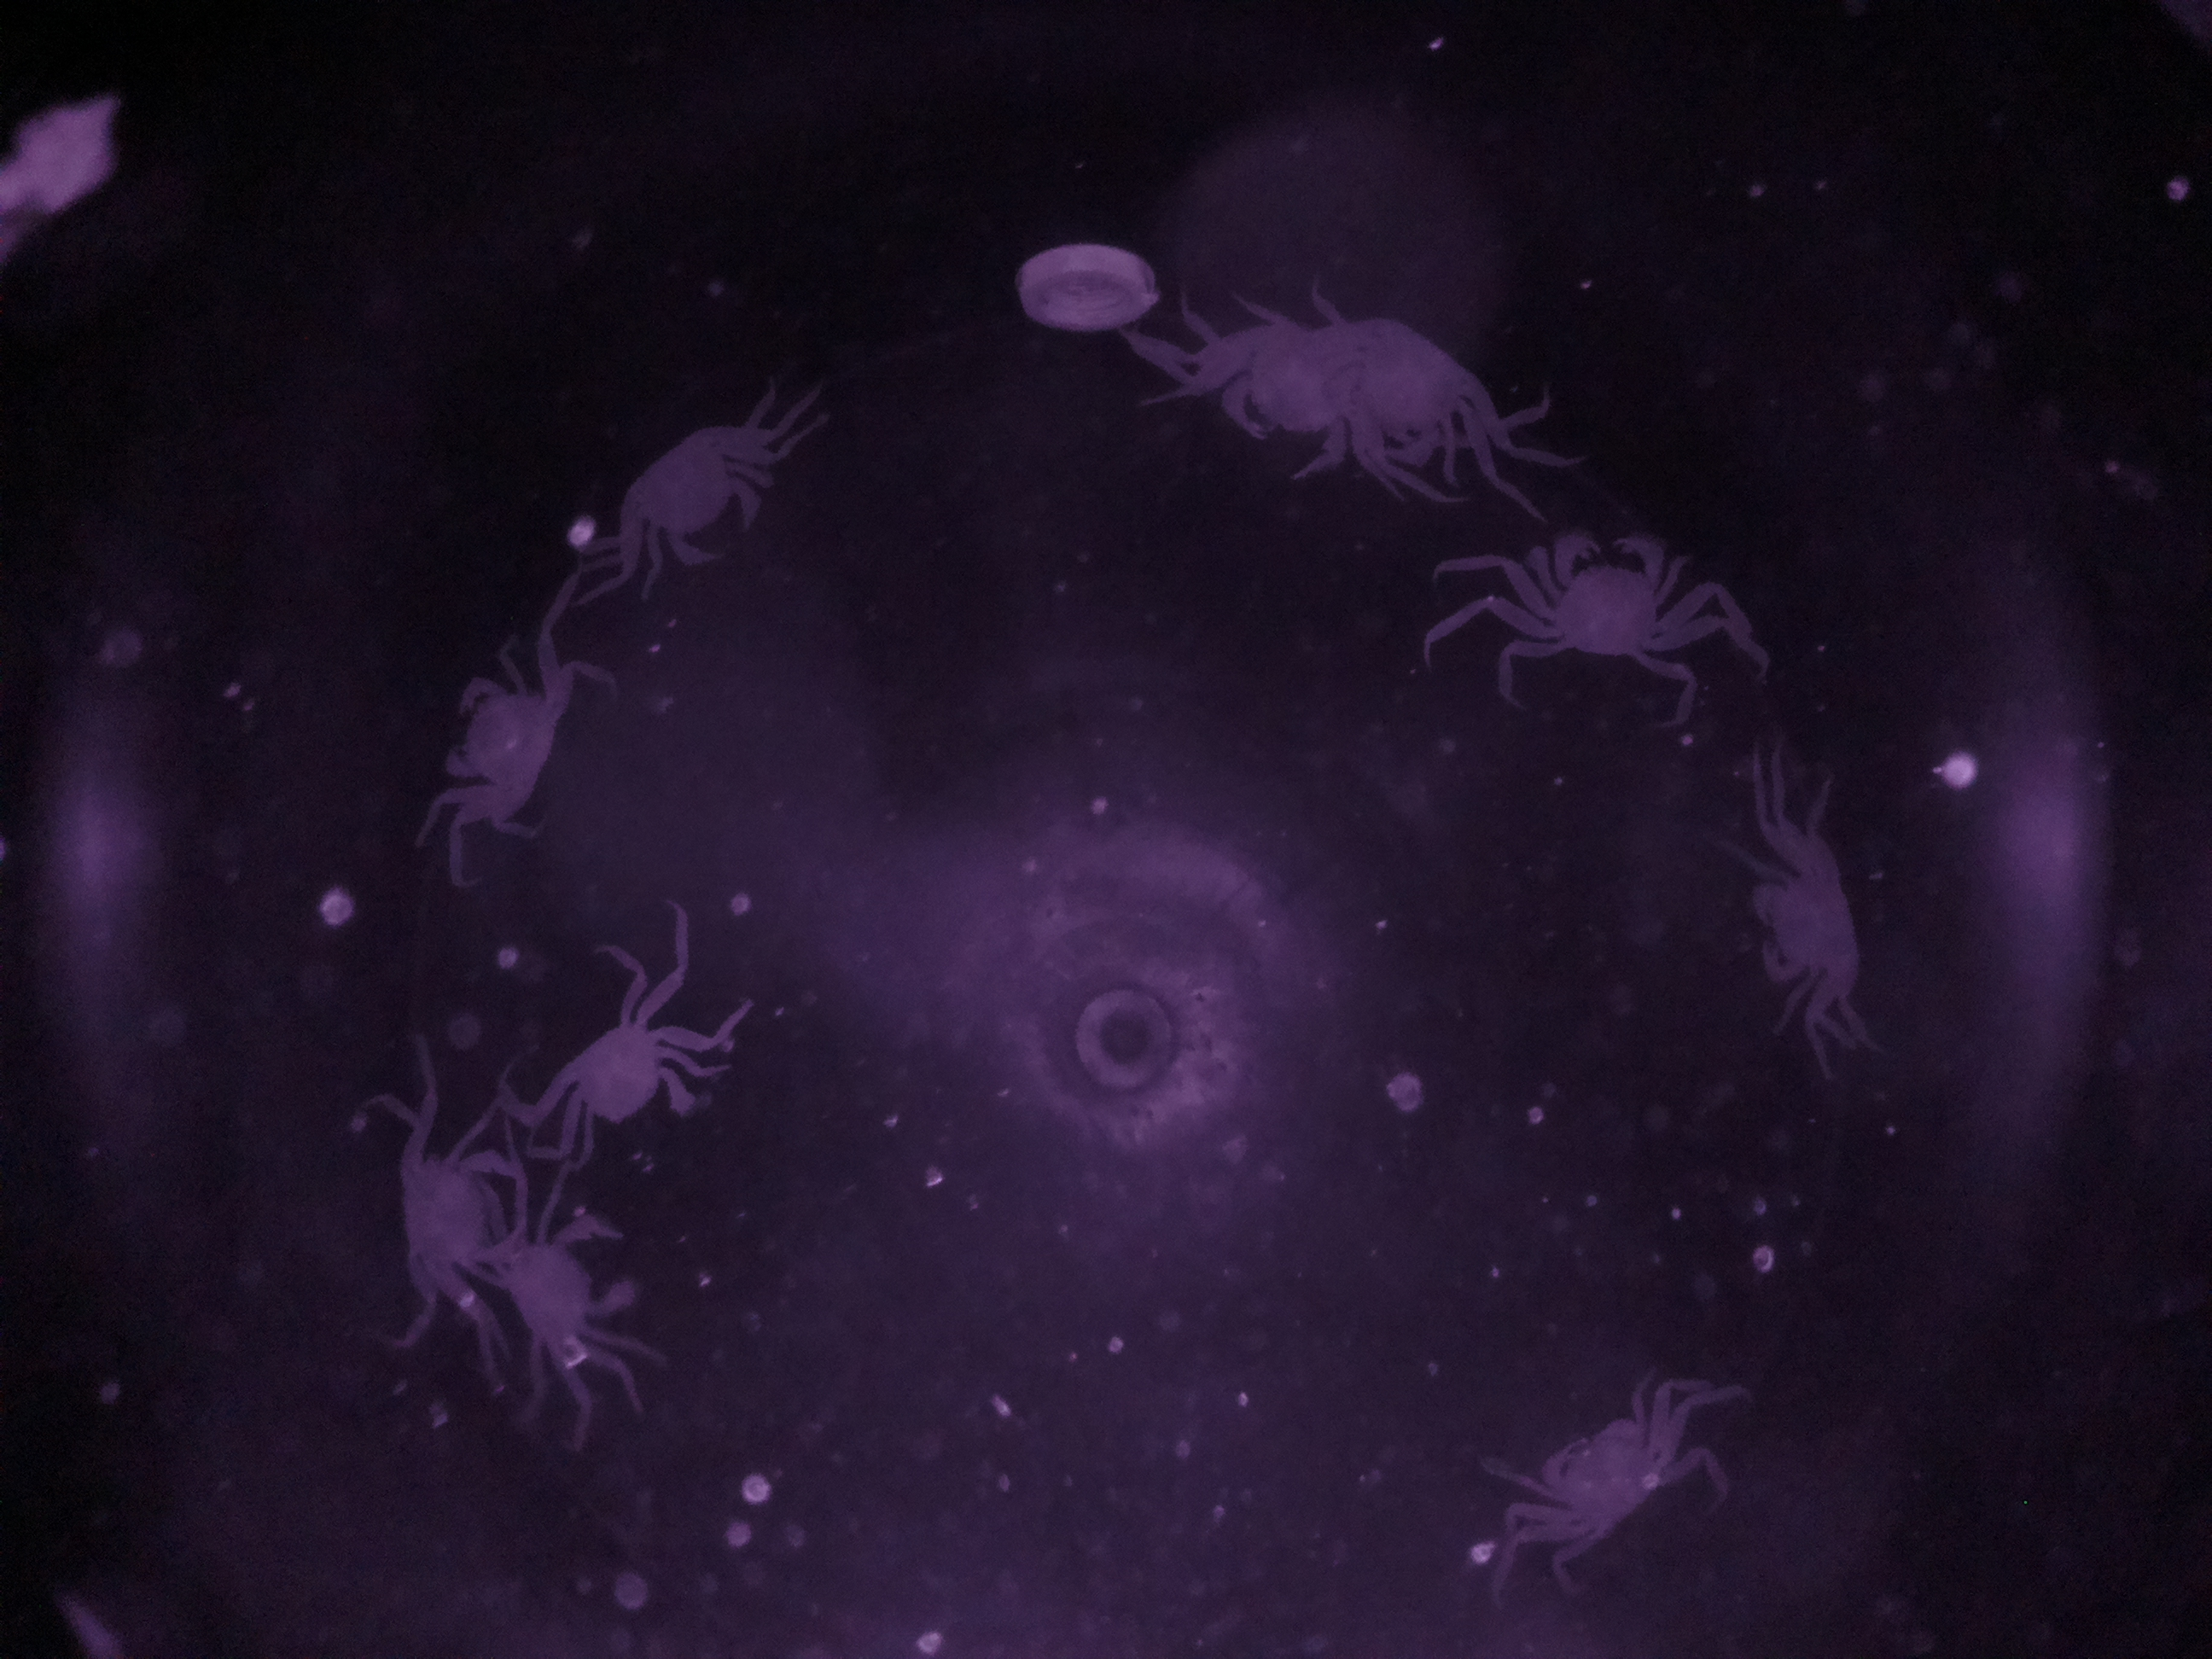Crab: (1503, 502, 1710, 706), (523, 981, 709, 1178), (611, 399, 791, 599), (1730, 836, 1898, 1033), (408, 653, 596, 817), (1515, 1387, 1684, 1568)
